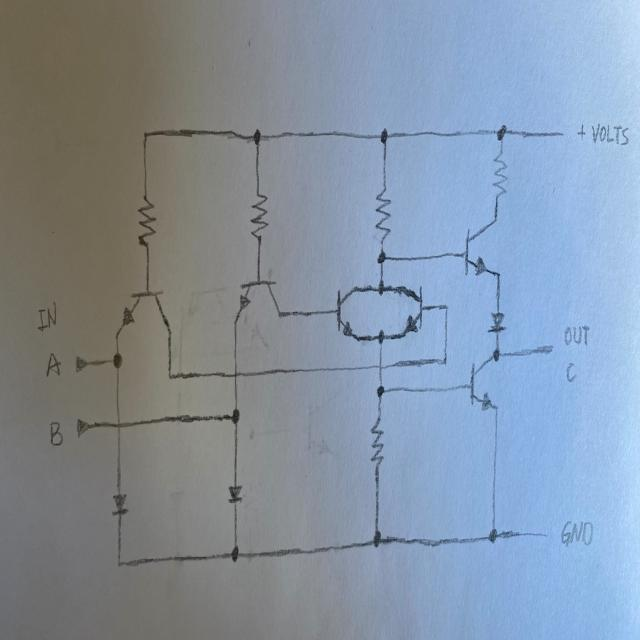diode: (486, 304, 511, 338), (108, 488, 132, 521), (224, 478, 246, 508)
junction: (366, 522, 388, 558), (484, 518, 505, 550), (224, 540, 247, 568), (164, 360, 185, 388), (492, 119, 512, 145), (371, 379, 393, 401), (248, 120, 265, 148), (108, 347, 126, 373), (377, 120, 392, 150), (113, 550, 130, 576), (227, 361, 246, 384), (488, 342, 504, 369), (227, 401, 244, 426), (111, 415, 130, 436), (436, 348, 454, 370), (373, 322, 388, 347), (438, 297, 454, 319), (375, 245, 389, 269), (371, 354, 388, 372), (374, 277, 387, 299), (139, 124, 152, 142)
resistor: (244, 187, 272, 246), (372, 181, 396, 244), (136, 188, 158, 252), (366, 416, 386, 474), (490, 150, 510, 204)
terminal: (70, 348, 96, 376), (543, 120, 569, 146), (75, 413, 100, 439), (538, 334, 559, 357), (531, 524, 554, 544)
text: (557, 516, 595, 550), (591, 117, 630, 148), (35, 299, 60, 333), (561, 319, 592, 346), (46, 416, 65, 448), (42, 350, 62, 380), (564, 358, 580, 387), (575, 119, 587, 142)
transistor: (110, 286, 174, 340), (228, 276, 286, 327), (460, 211, 501, 280), (333, 281, 368, 345), (394, 279, 426, 342), (464, 353, 492, 418)
